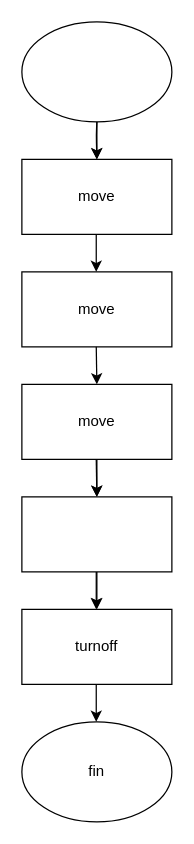
The diagram is 194 pixels wide and 844 high, and some of its shapes have lost their labels. The box of each missing label's shape, as (x1, y1, x2, y2) in pixels:
inicio: (21, 21, 172, 122)
turnleft: (21, 496, 172, 572)
